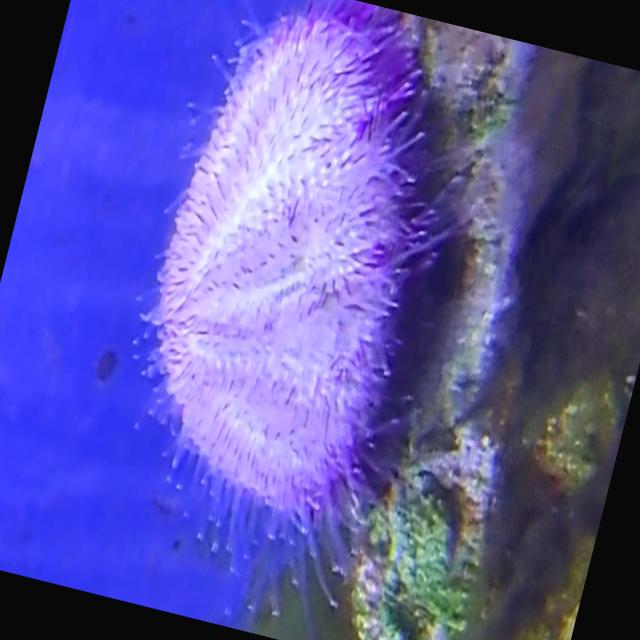Deniz Kestanesi: (86, 0, 508, 571)
